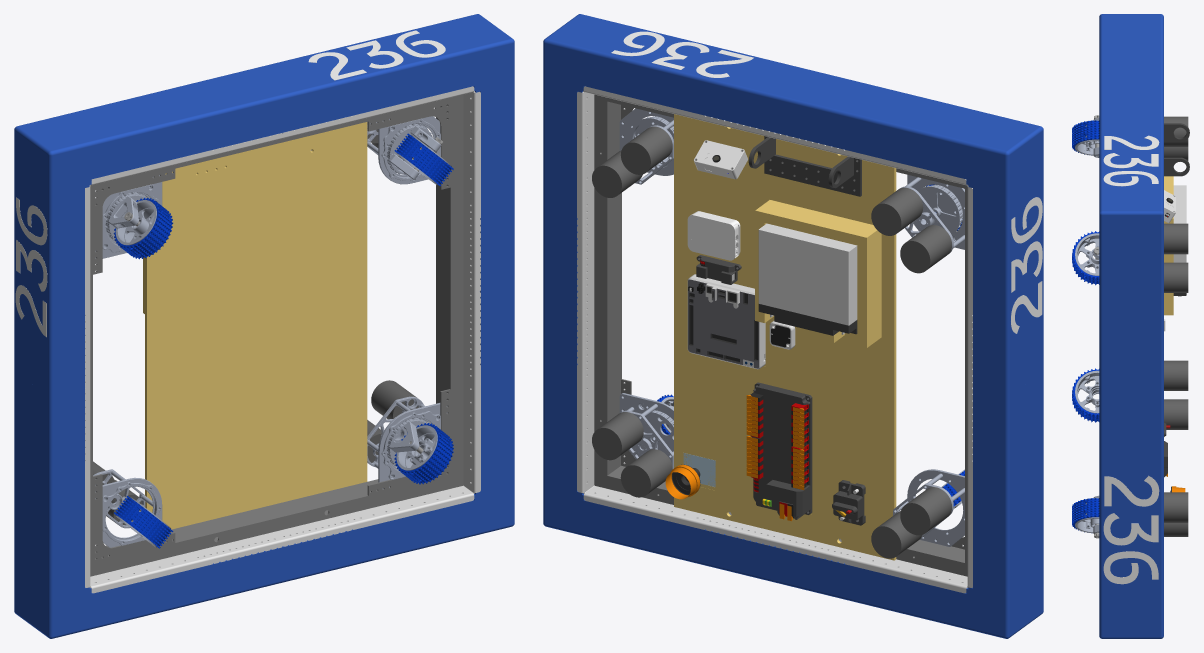
3 renders of one model, left to right at view 1: azimuth 30°, elevation 25°; view 2: azimuth 150°, elevation 25°; view 3: azimuth 270°, elevation 25°, orthographic. The views are drawn at different scales.
Visible parts, largest first — view 1: SWYFT Bumper Corner Foam (×4), Hardware Board, SWYFT Bumper Corner Bracket (×4), Back Tube 2"x1"x30", Left Tube 2"x1"x28", MK3 Plates_Both Plates With Chamfers (×4), Tread, Blue Nitrile 4in X 1.5in (×4), Mod 3 Connection Bracket, Mod 4 Connection Bracket, Mod 1 Connection Bracket, Mod 2 Connection Bracket, Wheel, SDS, Nitrile Tread, 4in X 1.5in, Bearing Bore (×2) (+3 smaller); view 2: SWYFT Bumper Corner Foam (×4), Hardware Board, SWYFT Bumper Corner Bracket (×4), X60 (×8), Robot Battery, Left Tube 2"x1"x28", Simplified PDH, Battery Mount, id55, MK3 Plates_Both Plates With Chamfers (×4), Back Tube 2"x1"x30", MK3 Base Pulley (×2) (+8 smaller); view 3: SWYFT Bumper Corner Foam (×3), X60 (×8), Tread, Blue Nitrile 4in X 1.5in (×4), Wheel, SDS, Nitrile Tread, 4in X 1.5in, Bearing Bore (×4), Team Number 6 (×2), Team Number 3 (×2), Team Number 2 (×2), Robot Battery, Battery Mount, Grabber Connector, Grabber Connector-Mirrored, id27.
Part boxes in pixels (box(x1,y1,x2,y2)): SWYFT Bumper Corner Foam (×4): box(14, 14, 514, 638); Hardware Board: box(145, 122, 367, 529); SWYFT Bumper Corner Bracket (×4): box(85, 86, 480, 593); Back Tube 2"x1"x30": box(90, 473, 463, 574); Left Tube 2"x1"x28": box(436, 99, 463, 475); MK3 Plates_Both Plates With Chamfers (×4): box(95, 116, 447, 547); Tread, Blue Nitrile 4in X 1.5in (×4): box(113, 133, 453, 548); Mod 3 Connection Bracket: box(367, 386, 463, 504); Mod 4 Connection Bracket: box(90, 474, 175, 576); Mod 1 Connection Bracket: box(90, 165, 175, 275); Mod 2 Connection Bracket: box(367, 94, 463, 189); Wheel, SDS, Nitrile Tread, 4in X 1.5in, Bearing Bore (×2): box(115, 200, 437, 470); SWYFT Bumper Corner Foam (×4): box(543, 14, 1043, 638); Hardware Board: box(674, 114, 896, 560); SWYFT Bumper Corner Bracket (×4): box(577, 86, 972, 593); X60 (×8): box(592, 126, 951, 558); Robot Battery: box(758, 223, 857, 335); Left Tube 2"x1"x28": box(594, 98, 621, 475); Simplified PDH: box(746, 382, 812, 521); Battery Mount: box(755, 200, 881, 347); id55: box(687, 274, 765, 369); MK3 Plates_Both Plates With Chamfers (×4): box(619, 108, 964, 546); Back Tube 2"x1"x30": box(594, 465, 967, 576); MK3 Base Pulley (×2): box(633, 184, 962, 460); SWYFT Bumper Corner Foam (×3): box(1099, 14, 1163, 638); X60 (×8): box(1164, 116, 1188, 536); Tread, Blue Nitrile 4in X 1.5in (×4): box(1072, 120, 1099, 533); Wheel, SDS, Nitrile Tread, 4in X 1.5in, Bearing Bore (×4): box(1075, 120, 1099, 533); Team Number 6 (×2): box(1103, 171, 1158, 584); Team Number 3 (×2): box(1103, 153, 1158, 545); Team Number 2 (×2): box(1104, 135, 1159, 506); Robot Battery: box(1173, 185, 1186, 296); Battery Mount: box(1164, 176, 1173, 315); Grabber Connector: box(1164, 157, 1189, 176); Grabber Connector-Mirrored: box(1164, 123, 1189, 142); id27: box(1164, 190, 1175, 223).
Size of the model in its own units: 0.9273 by 0.9273 by 0.2311.
